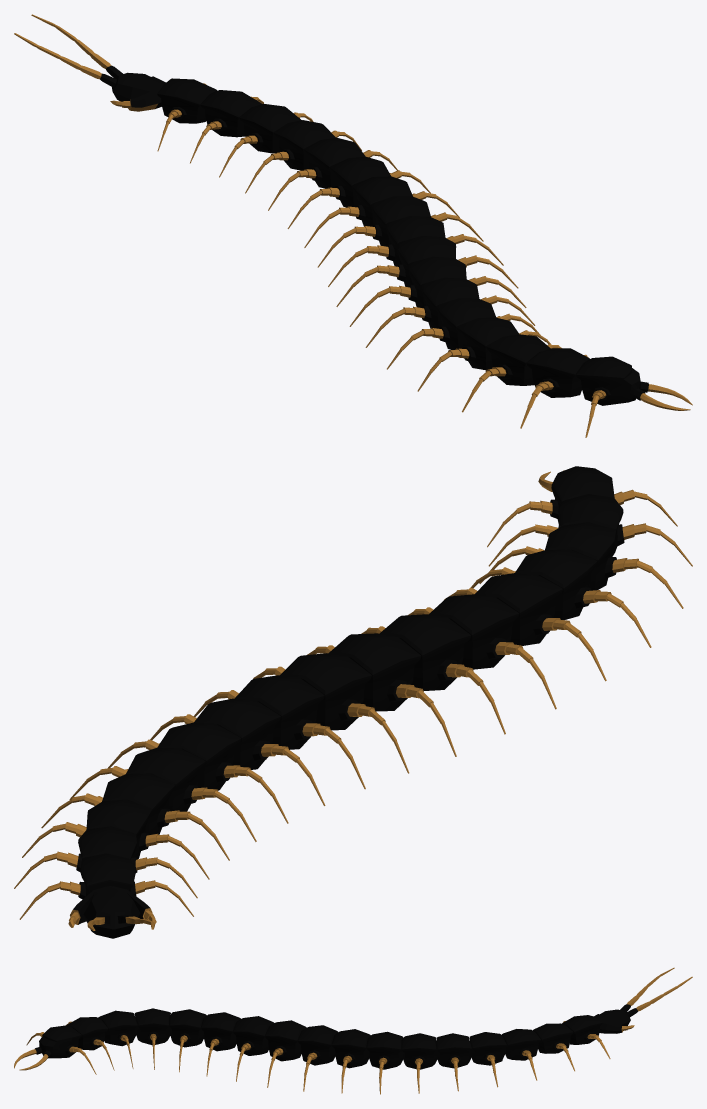
File: centipede.fbx
3 renders of one model, top to bottom at view 1: azimuth 30°, elevation 25°; view 2: azimuth 150°, elevation 25°; view 3: azimuth 270°, elevation 25°, orthographic. The views are drawn at different scales.
Parts seen in each view (by area): view 1: Cube, Cube.001; view 2: Cube, Cube.001; view 3: Cube, Cube.001.
Boxes of the visible parts, x1,y1,x2,y2 form: Cube: (157, 78, 692, 437); Cube.001: (14, 14, 165, 111); Cube: (14, 466, 692, 919); Cube.001: (68, 886, 156, 938); Cube: (14, 1008, 610, 1094); Cube.001: (594, 967, 692, 1033).
Bounding box in the file's own units: 718 × 257 × 2765.
